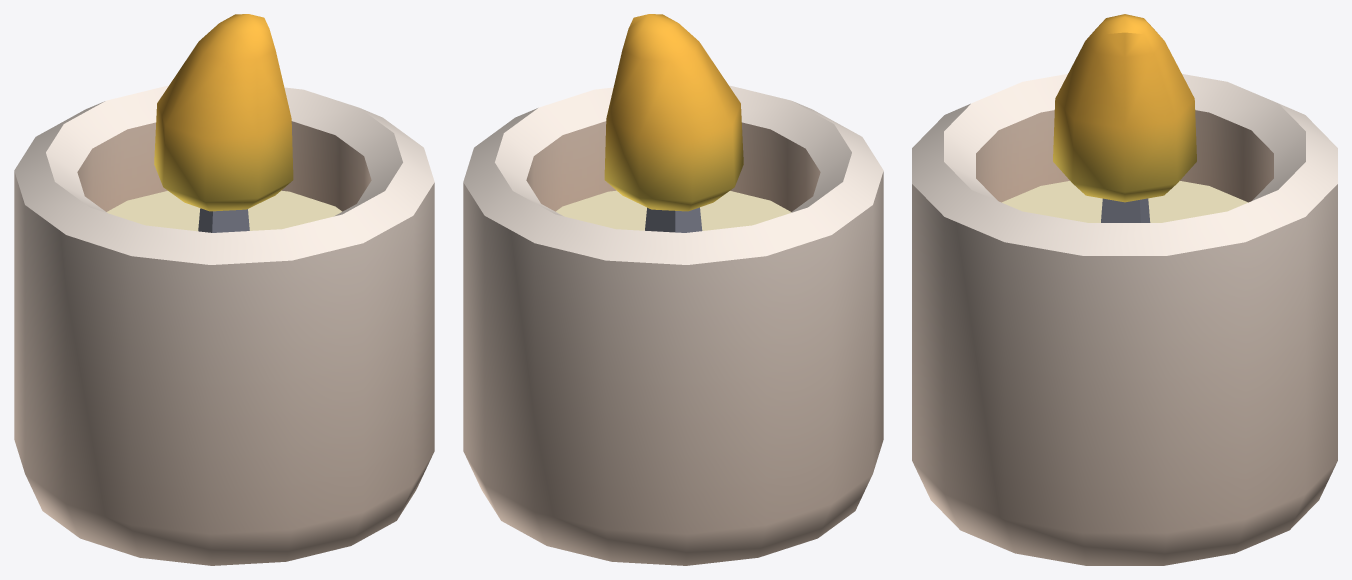
File: Candle.glb
The picture shows the model from 3 angles, left to right: view 1: azimuth 30°, elevation 25°; view 2: azimuth 150°, elevation 25°; view 3: azimuth 270°, elevation 25°; orthographic projection. The views are drawn at different scales.
Visible parts, largest first — view 1: candle; view 2: candle; view 3: candle.
Part boxes in pixels (x1=…): candle: x1=14, y1=14, x2=434, y2=565; candle: x1=463, y1=14, x2=883, y2=565; candle: x1=912, y1=14, x2=1337, y2=565.
Bounding box in the file's own units: 0.288 × 0.3702 × 0.288.
1 material, 1 textured.
